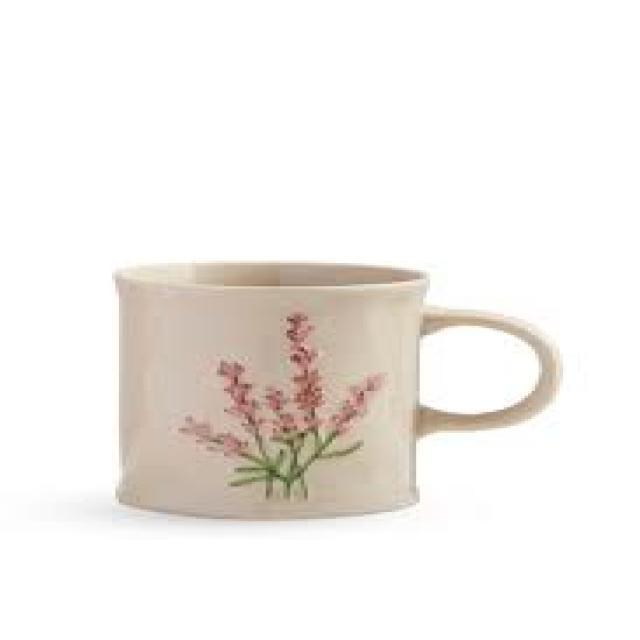taza: (113, 259, 565, 522)
